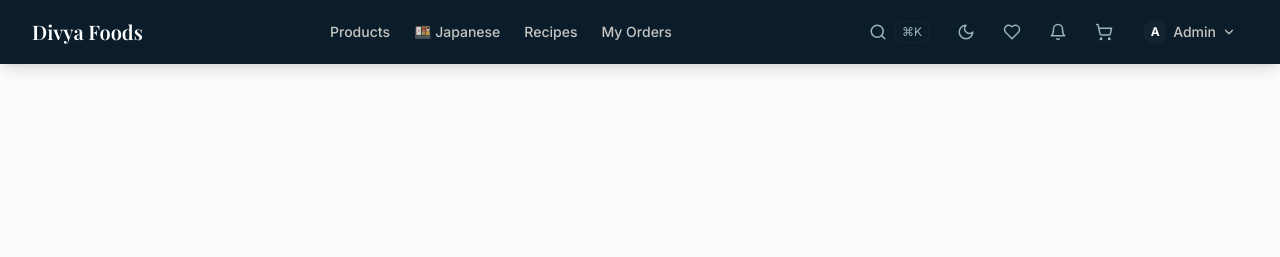
Test: Navbar › shows an Admin Panel link for admin users
Click the button with aria-label "Account menu" at (1190, 32), box top-left (1131, 14), bottom-right (1248, 50)
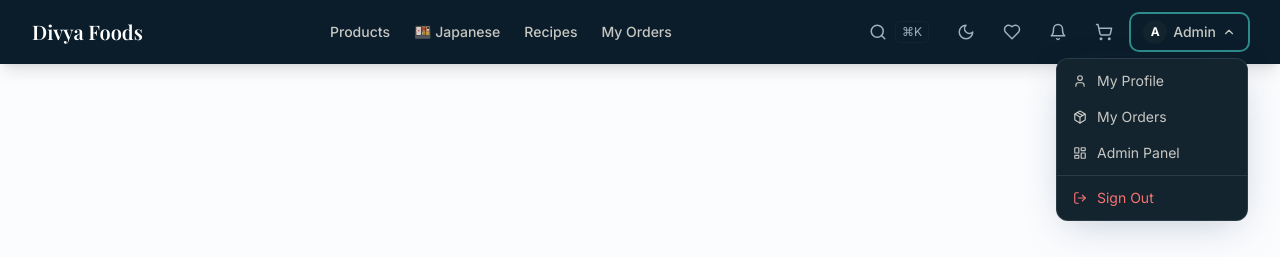
Result: the menu item "Admin Panel" is shown at top-left (1073, 144), bottom-right (1180, 161)
